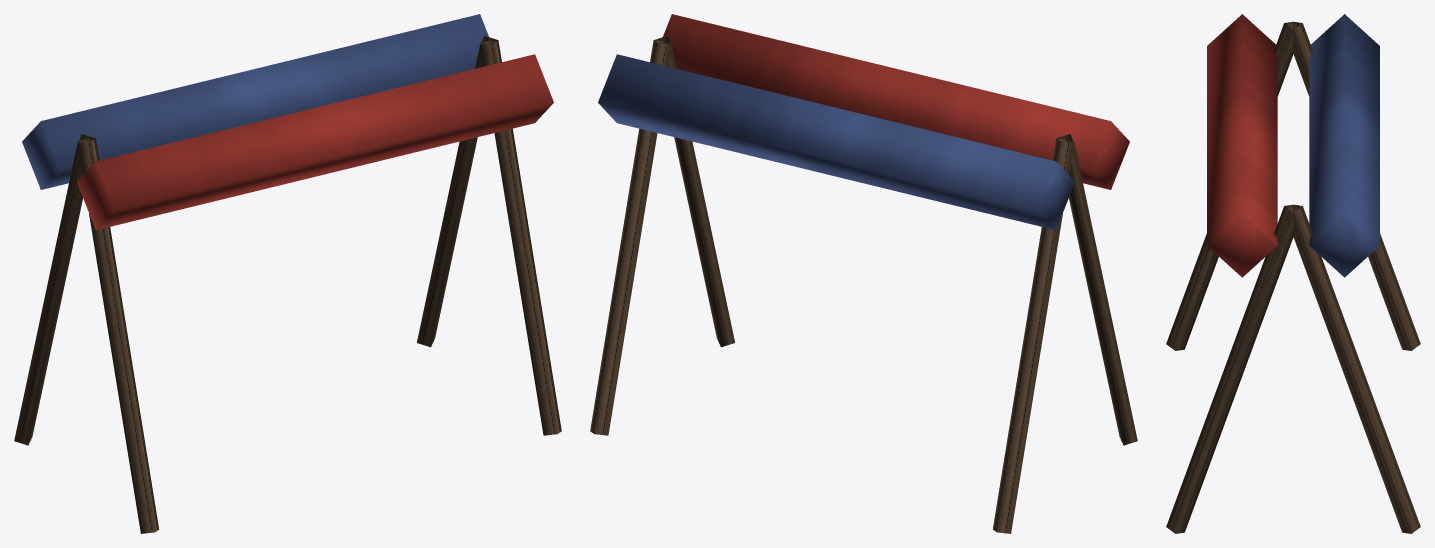
Rendered from Cloth_Rolls_1_LOD2.gltf.
3 views of the same model, side by side, from view 1: azimuth 30°, elevation 25°; view 2: azimuth 150°, elevation 25°; view 3: azimuth 270°, elevation 25° (orthographic). The views are drawn at different scales.
Parts seen in each view (by area): view 1: Cloth_Rolls_1_LOD2; view 2: Cloth_Rolls_1_LOD2; view 3: Cloth_Rolls_1_LOD2.
Boxes of the visible parts, x1=… form: Cloth_Rolls_1_LOD2: x1=14, y1=14, x2=561, y2=533; Cloth_Rolls_1_LOD2: x1=590, y1=14, x2=1137, y2=533; Cloth_Rolls_1_LOD2: x1=1166, y1=14, x2=1420, y2=533.
Bounding box in the file's own units: 1.2 × 0.9179 × 0.6474.
3 materials, 3 textured.
